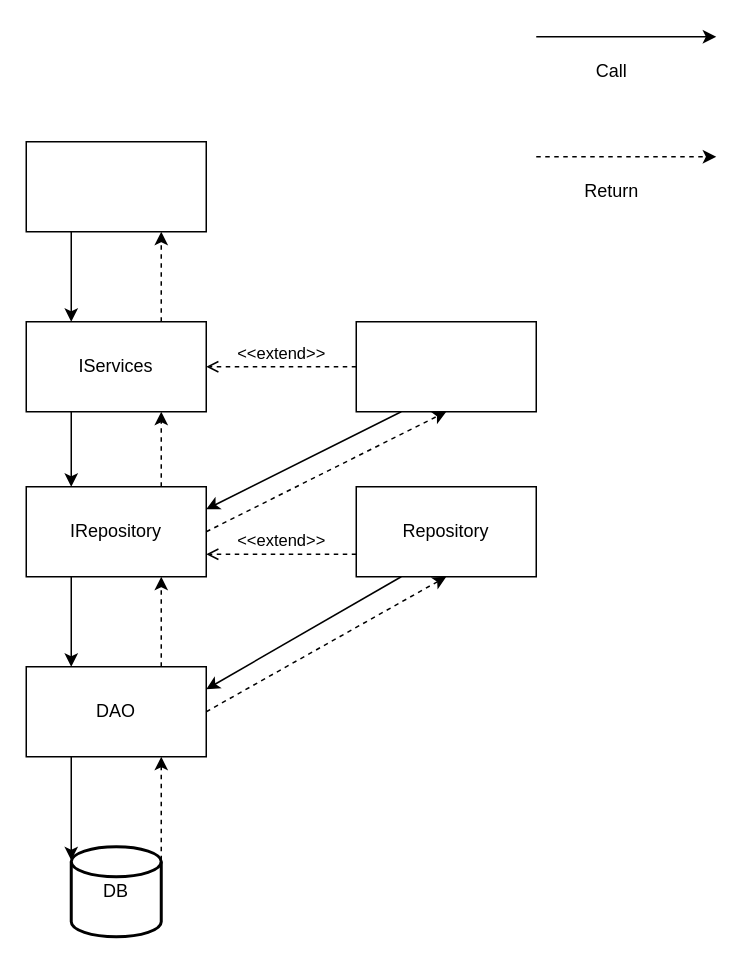
This 755x965 diagram has some shape labels left out. Here are the shapes that lost their labels. From the top down, the centre of each, then its label:
At (x=115, y=186): "API".
At (x=445, y=366): "Services".
